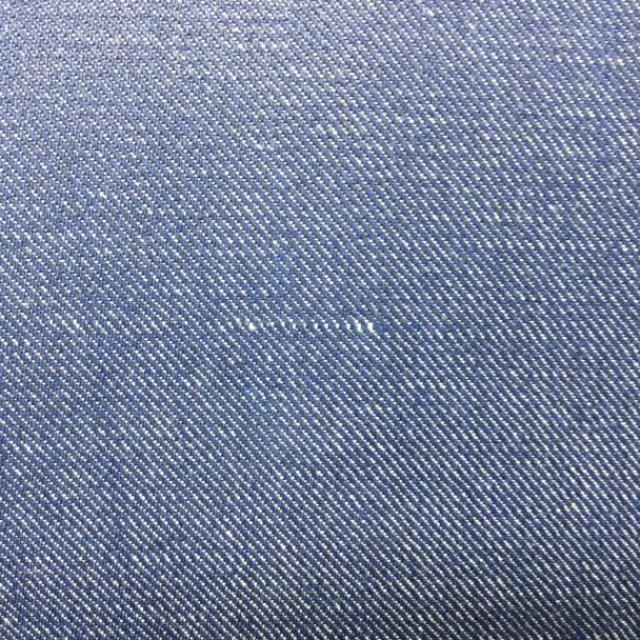Knot: (235, 317, 376, 334)
